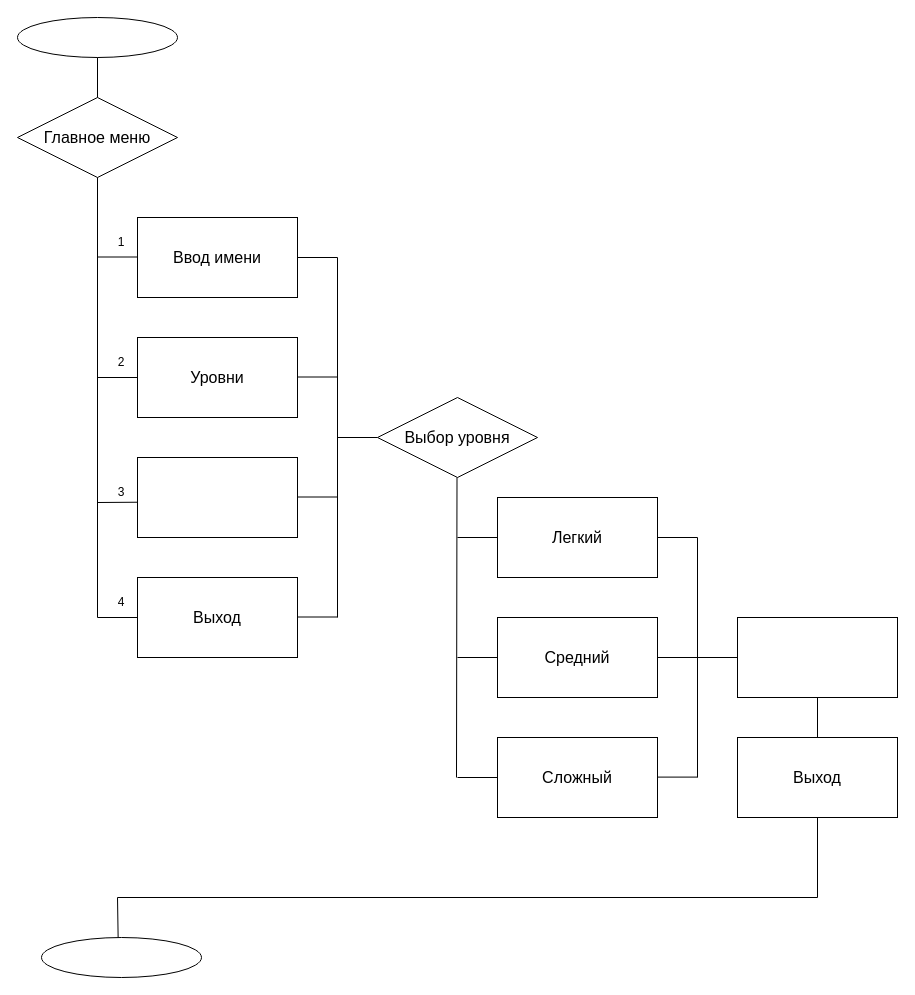
Image size: 915x995. Some labels were removed from this diagram. Each missing label, with the centre of its shape:
"Игра" belongs at pixel 817 657.
"Конец" belongs at pixel 121 957.
"Настройки" belongs at pixel 217 497.
"Начало" belongs at pixel 97 37.
